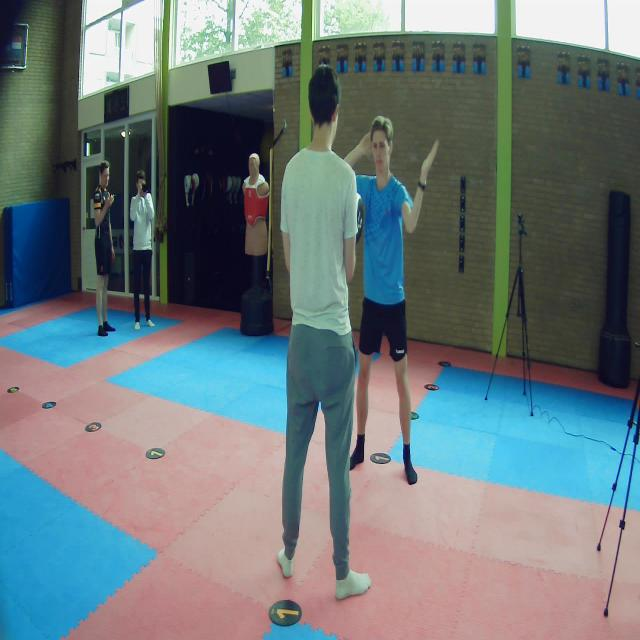paddle: (356, 192, 364, 246)
